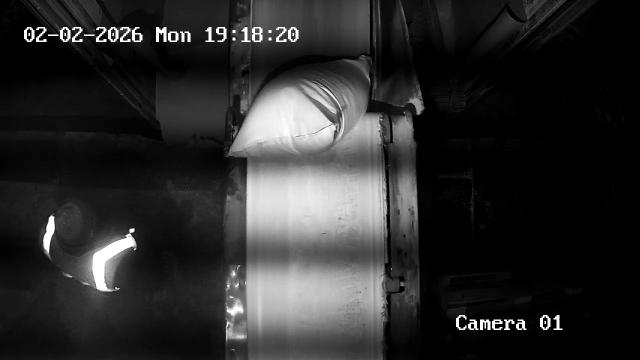bag: (228, 54, 371, 161)
